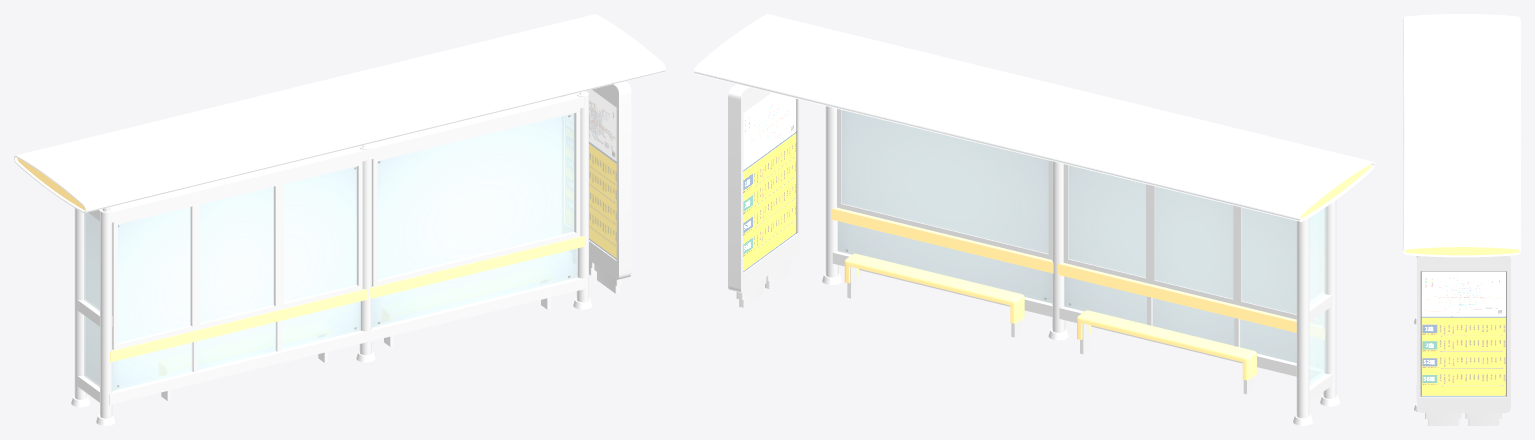
Rendered from Bus_Stop.glb.
3 renders of one model, left to right at view 1: azimuth 30°, elevation 25°; view 2: azimuth 150°, elevation 25°; view 3: azimuth 270°, elevation 25°, orthographic. The views are drawn at different scales.
Visible parts, largest first — view 1: Bus_Stop; view 2: Bus_Stop; view 3: Bus_Stop.
Boxes of the visible parts, box(x1,y1,x2,y2) form: Bus_Stop: box(14, 14, 665, 425); Bus_Stop: box(694, 14, 1374, 425); Bus_Stop: box(1403, 14, 1520, 425).
Size of the model in its own units: 7 by 2.71 by 1.5.
Materials: 5 (3 with a texture image).
